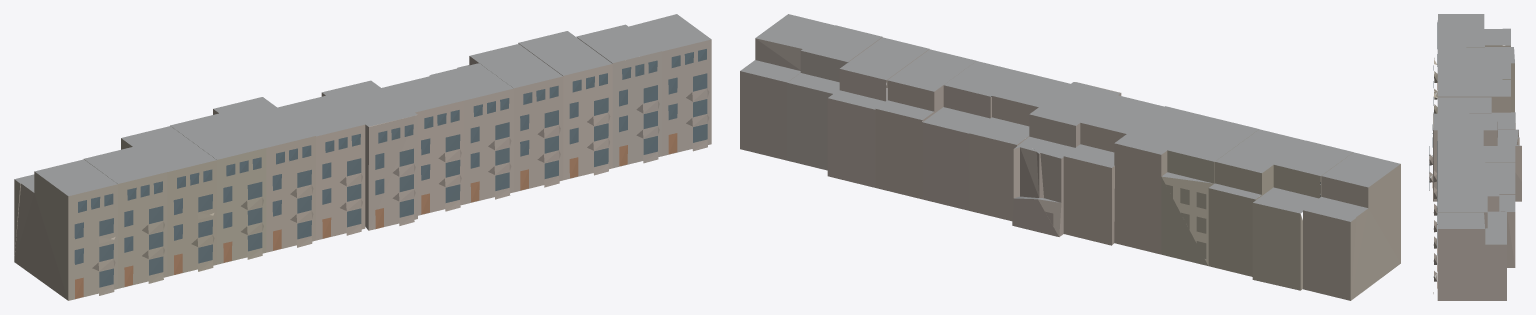
Rendered from chunk-face-boterdiep-3-59-r1.lod2.glb.
3 views of the same model, side by side, from view 1: azimuth 30°, elevation 25°; view 2: azimuth 150°, elevation 25°; view 3: azimuth 270°, elevation 25° (orthographic). The views are drawn at different scales.
Visible parts, largest first — view 1: lod2; view 2: lod2; view 3: lod2.
Part boxes in pixels (<box>): lod2: <box>14,14,711,300</box>; lod2: <box>740,14,1400,300</box>; lod2: <box>1429,14,1521,300</box>.
Size of the model in its own units: 79.41 by 12.39 by 14.46.
